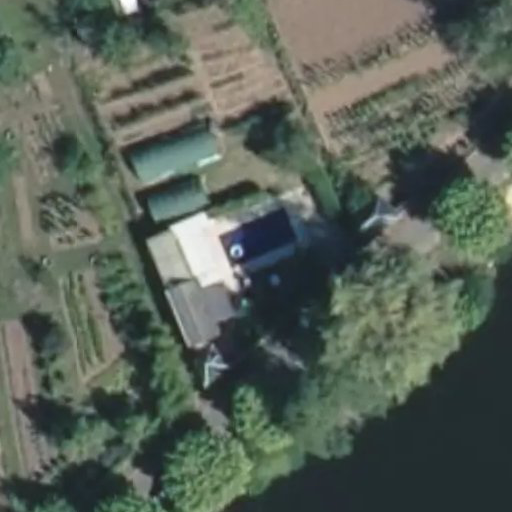pool: (213, 239, 298, 244)
